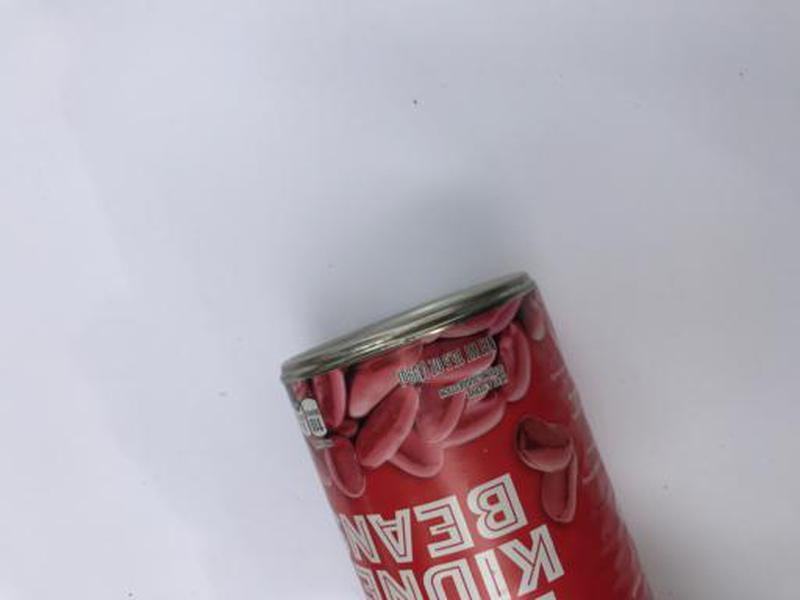can: (276, 266, 662, 600)
